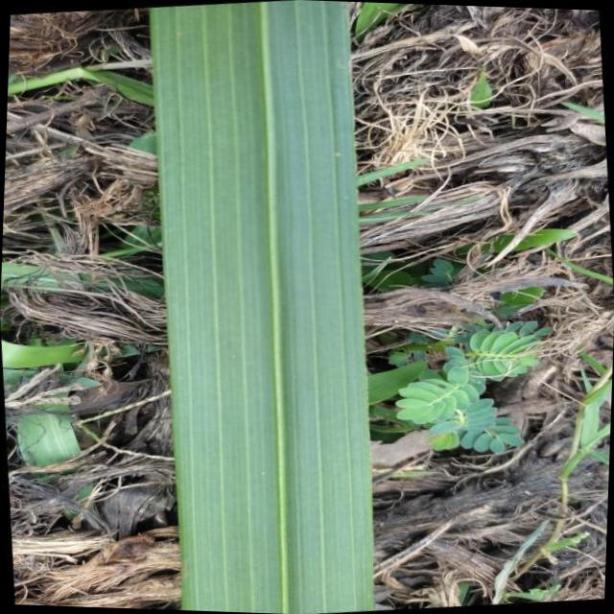Healthy: (150, 0, 384, 614)
